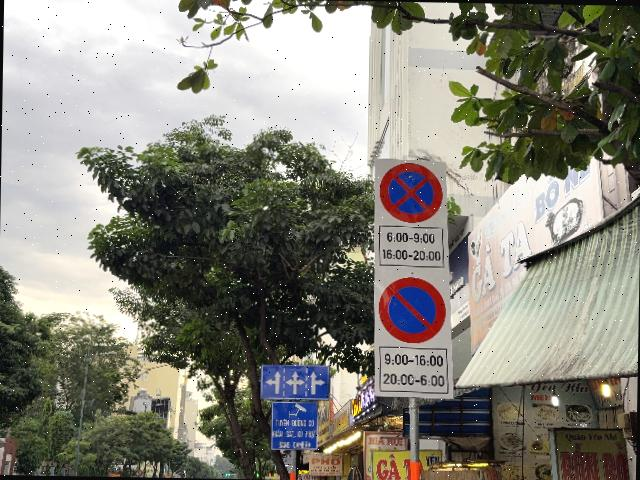cam-do-xe: (379, 276, 446, 342)
cam-dung-va-do-xe: (379, 162, 444, 222)
